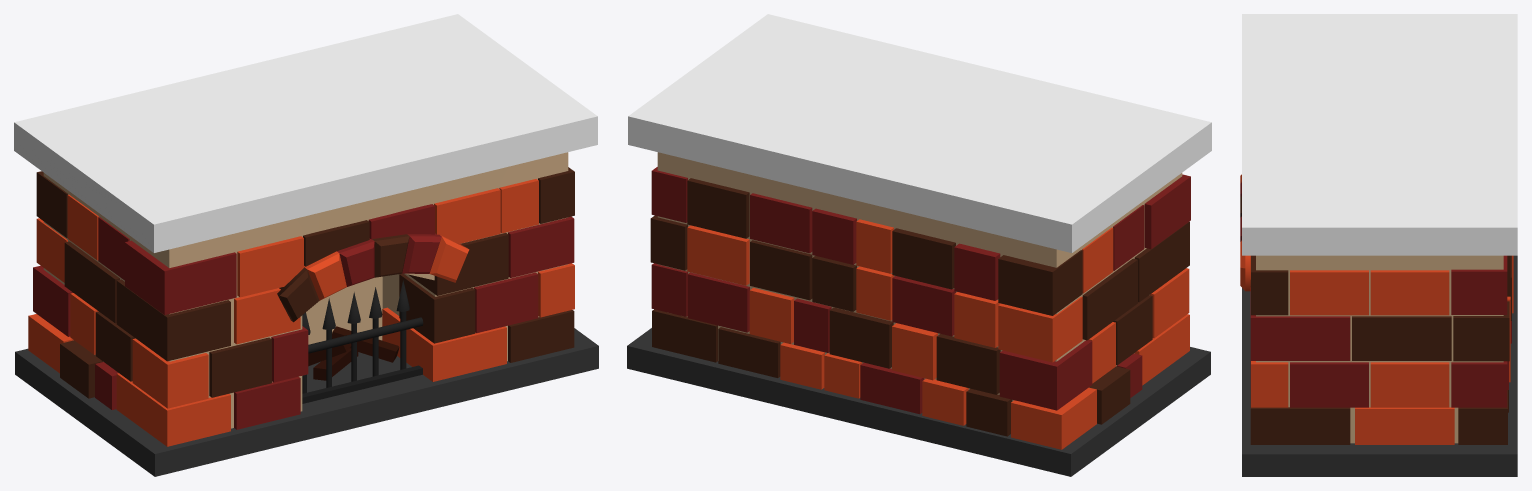
The model's file is OBJ_fireplace.fbx.
3 views of the same model, side by side, from view 1: azimuth 30°, elevation 25°; view 2: azimuth 150°, elevation 25°; view 3: azimuth 270°, elevation 25° (orthographic).
Parts seen in each view (by area): view 1: Box002, Box007, Object001, Cone001, wBox009; view 2: Box002, Box007; view 3: Box002, Box007, Object001.
Part boxes in pixels (left/top/right/bottom): Box002: left=14, top=14, right=598, bottom=476; Box007: left=28, top=167, right=574, bottom=446; Object001: left=277, top=233, right=469, bottom=322; Cone001: left=302, top=280, right=423, bottom=403; wBox009: left=308, top=326, right=399, bottom=380; Box002: left=627, top=14, right=1211, bottom=476; Box007: left=650, top=167, right=1190, bottom=449; Box002: left=1242, top=14, right=1517, bottom=476; Box007: left=1250, top=255, right=1513, bottom=444; Object001: left=1240, top=174, right=1250, bottom=291.
Size of the model in its own units: 55.64 by 30.18 by 30.49.
